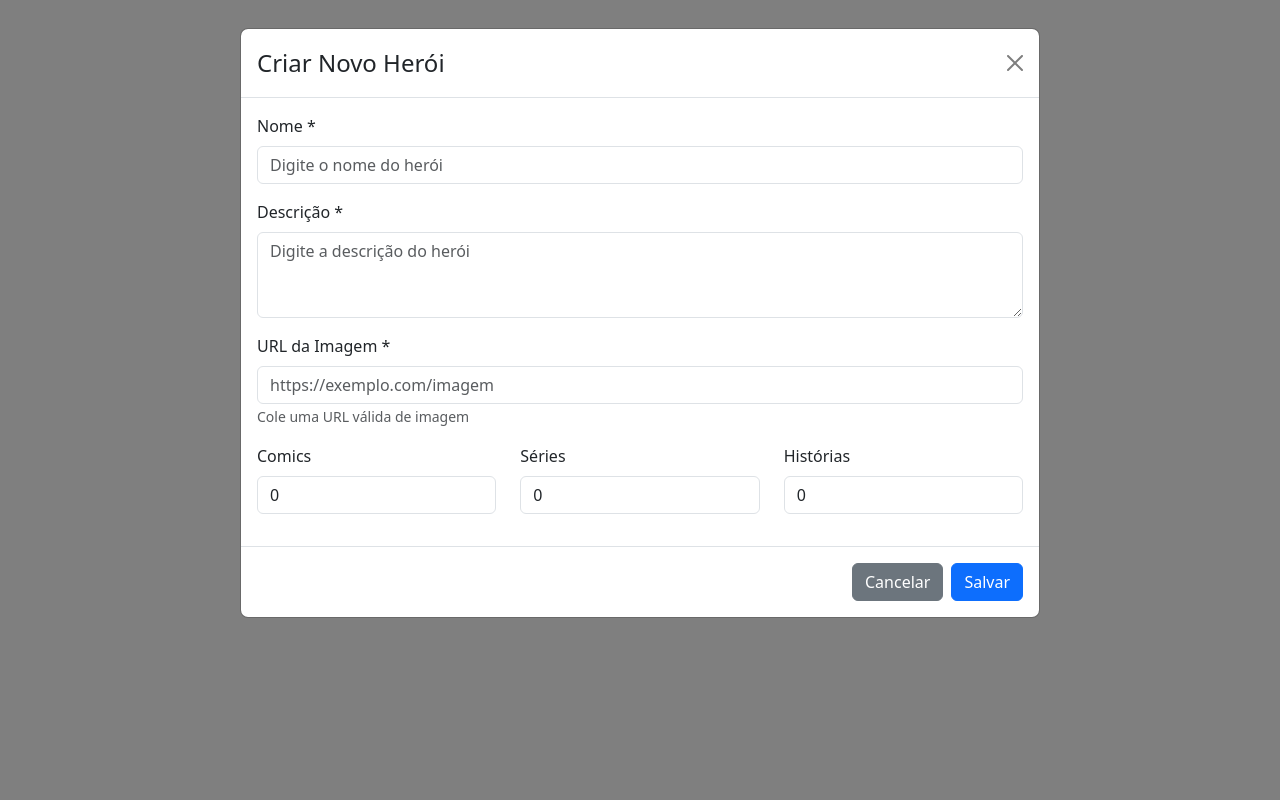
Test: HeroForm › Form Validation › should clear errors when field is corrected
// Trigger validation error
Click the button "Salvar" at (987, 582), box x1=951 y1=563 x2=1023 y2=601
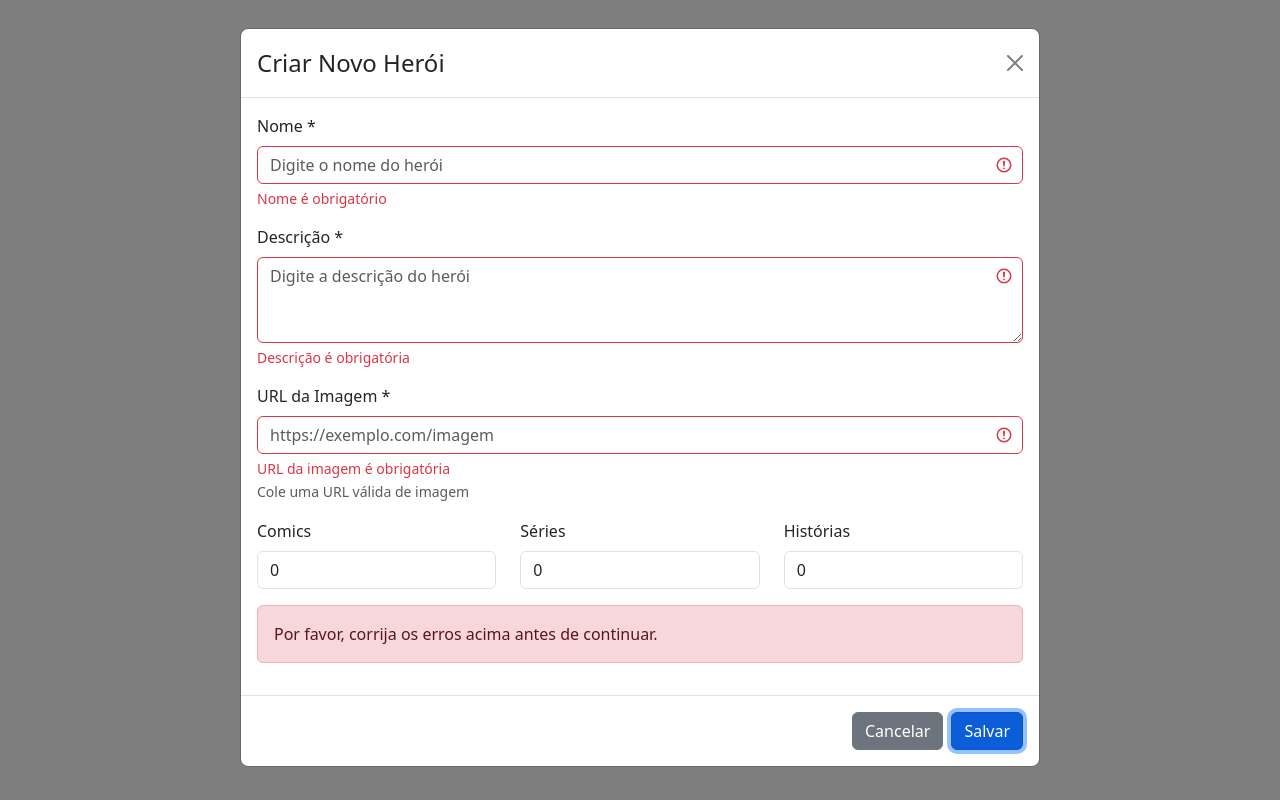
Expected: the text "Nome é obrigatório" is shown, x1=257 y1=189 x2=387 y2=208
// Fix the error
Type "Valid Name" into the field with placeholder "Digite o nome do herói" at (640, 165), box x1=257 y1=146 x2=1023 y2=184
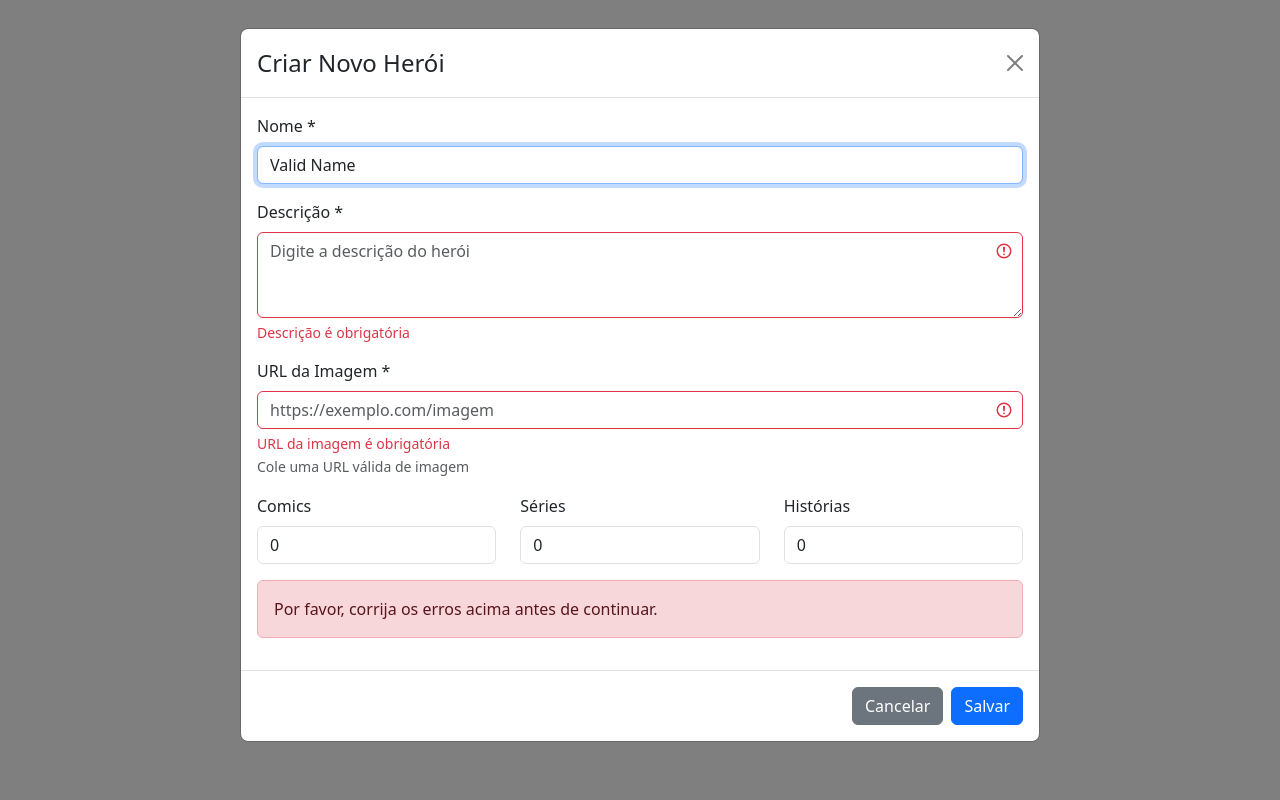
Expected: the text "Nome é obrigatório" is gone
